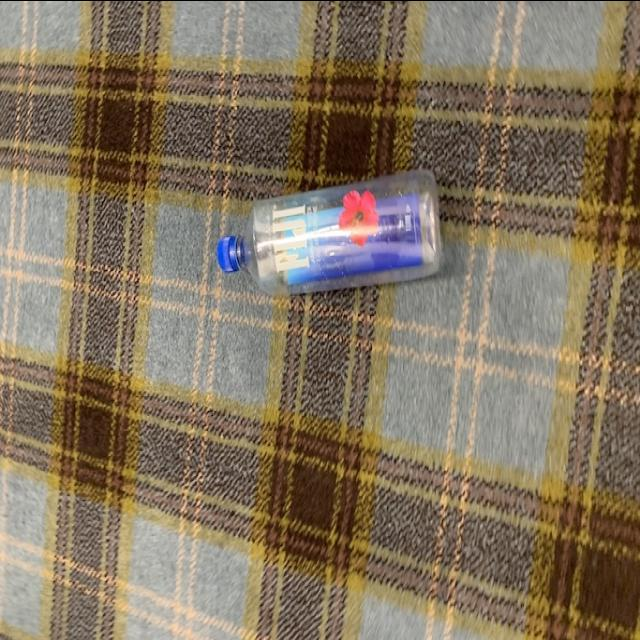PET: (216, 170, 444, 296)
